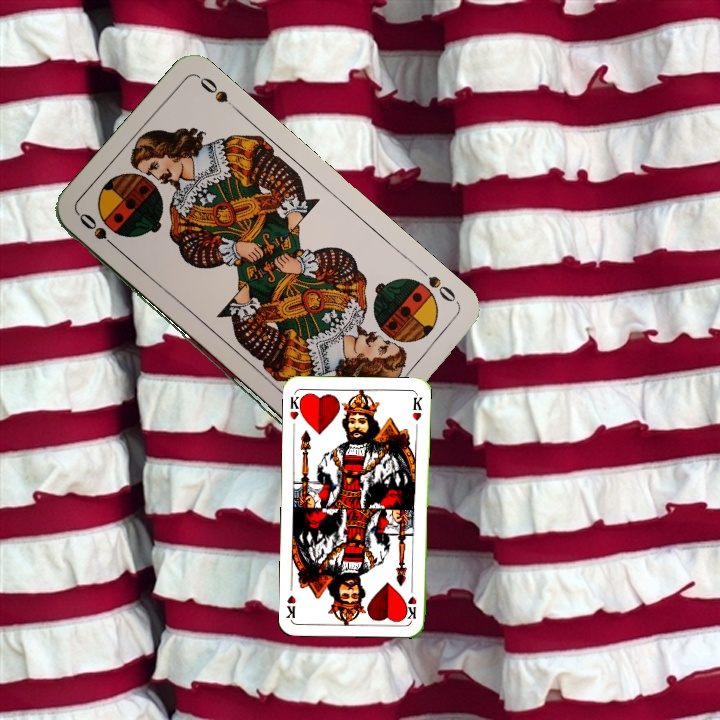HK: (403, 581, 419, 622), (285, 390, 305, 422)
SO: (408, 263, 462, 307), (74, 209, 123, 254)
